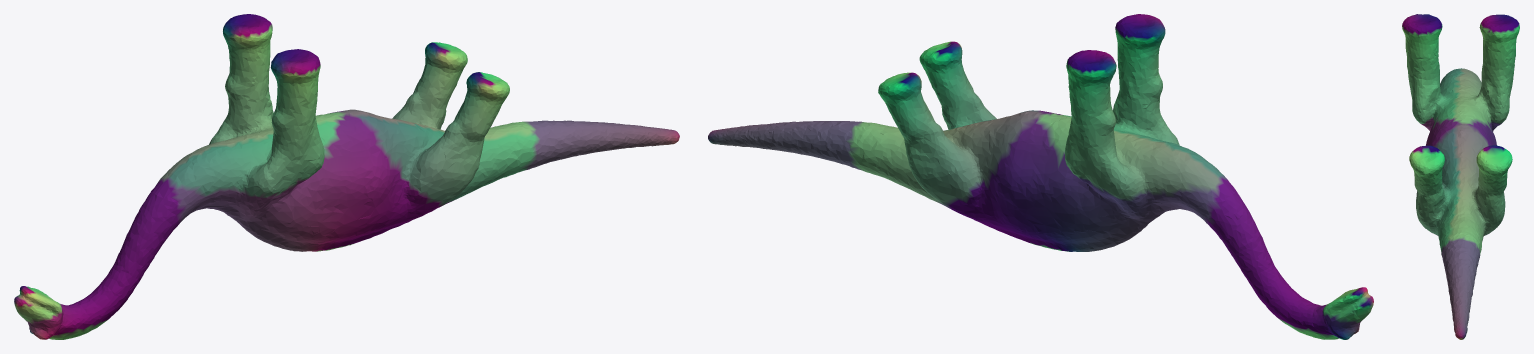
Rendered from dinosaur-11.off.obj.
3 renders of one model, left to right at view 1: azimuth 30°, elevation 25°; view 2: azimuth 150°, elevation 25°; view 3: azimuth 270°, elevation 25°, orthographic. The views are drawn at different scales.
Size of the model in its own units: 1.72 by 0.6187 by 0.3291.
